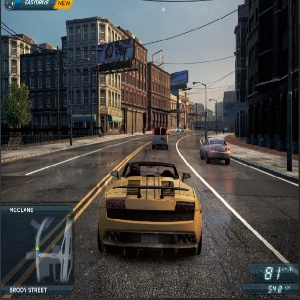ad: (95, 42, 135, 63), (168, 72, 188, 85)
building: (64, 19, 149, 134), (236, 3, 300, 153), (3, 34, 66, 140), (147, 63, 181, 133), (216, 90, 240, 130)
tree: (1, 83, 33, 135)
vehicle: (197, 137, 233, 165), (153, 126, 170, 151), (176, 127, 187, 135)
